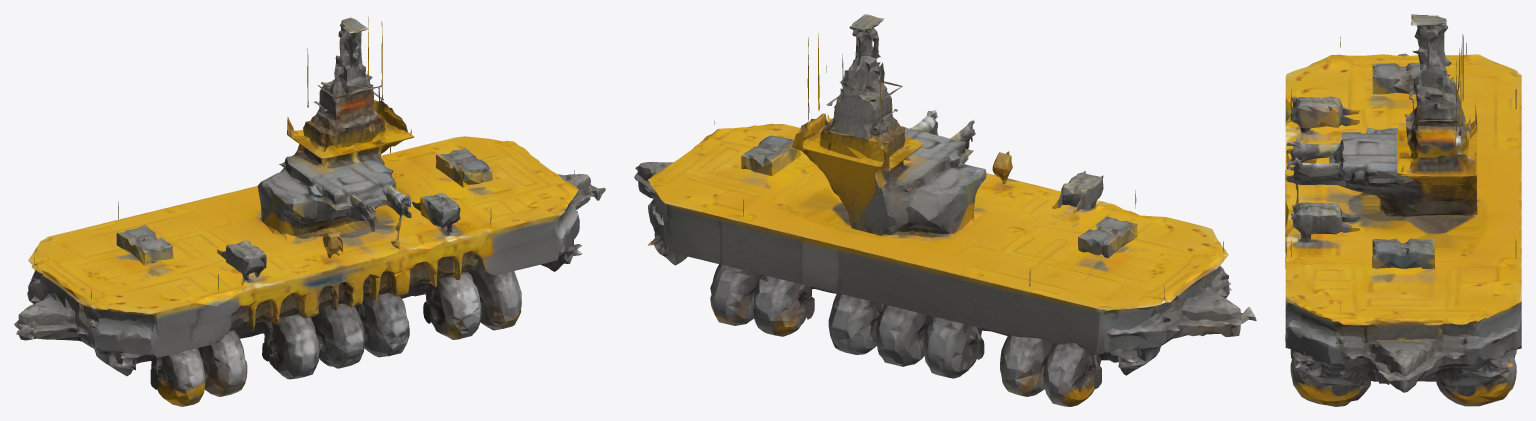
The model's file is mining_cruiser.glb.
The picture shows the model from 3 angles, left to right: view 1: azimuth 30°, elevation 25°; view 2: azimuth 150°, elevation 25°; view 3: azimuth 270°, elevation 25°; orthographic projection. The views are drawn at different scales.
Parts seen in each view (by area): view 1: mining_cruiser; view 2: mining_cruiser; view 3: mining_cruiser.
Part boxes in pixels (x1,y1,x2,y2): mining_cruiser: [14, 17, 605, 406]; mining_cruiser: [634, 14, 1256, 406]; mining_cruiser: [1285, 14, 1521, 406].
Size of the model in its own units: 1.89 by 0.9025 by 0.5858.
Materials: 1 (1 with a texture image).
